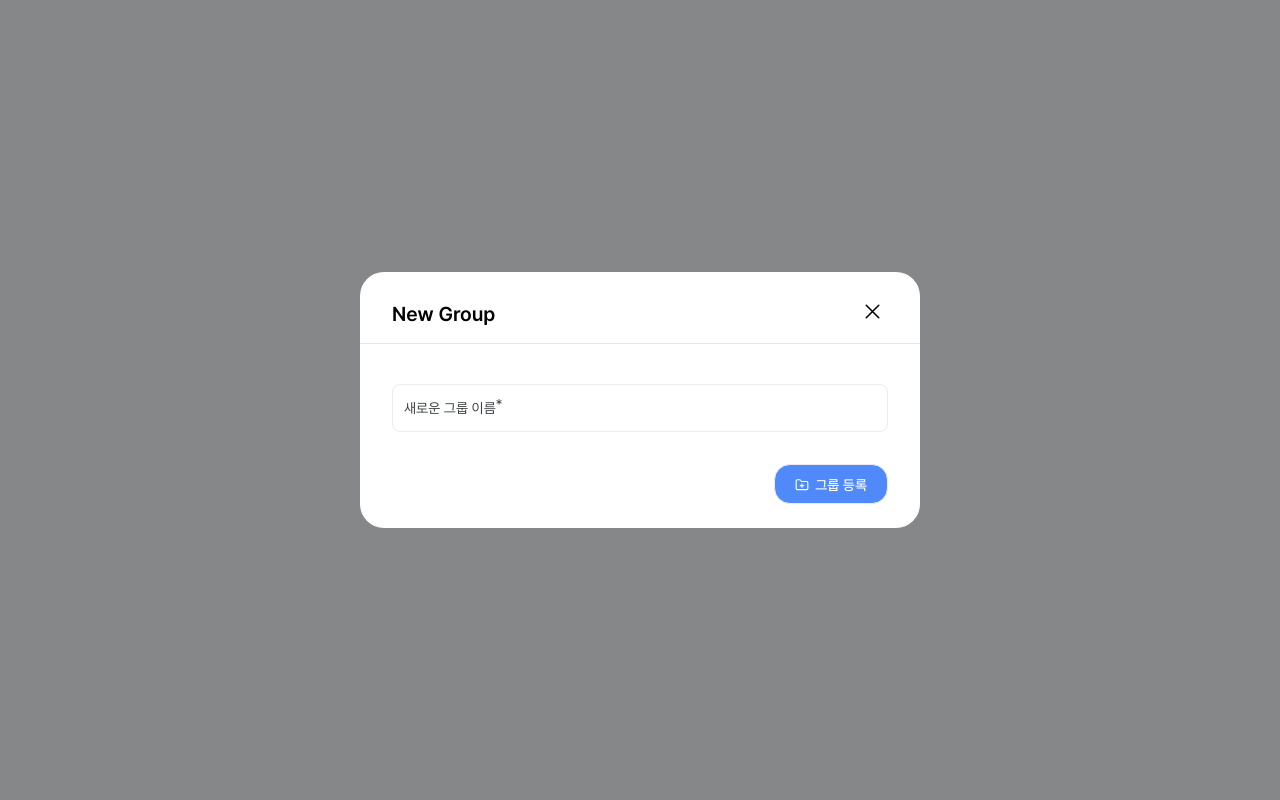
CreateGroup 컴포넌트 단위 테스트 › 유효성 검사를 통과하지 못하면 에러 메시지가 렌더링 된다.
The image size is (1280, 800).
Type "중복된 그룹 이름" into the field labelled "새로운 그룹 이름" at (640, 408), box [392,384,888,432]
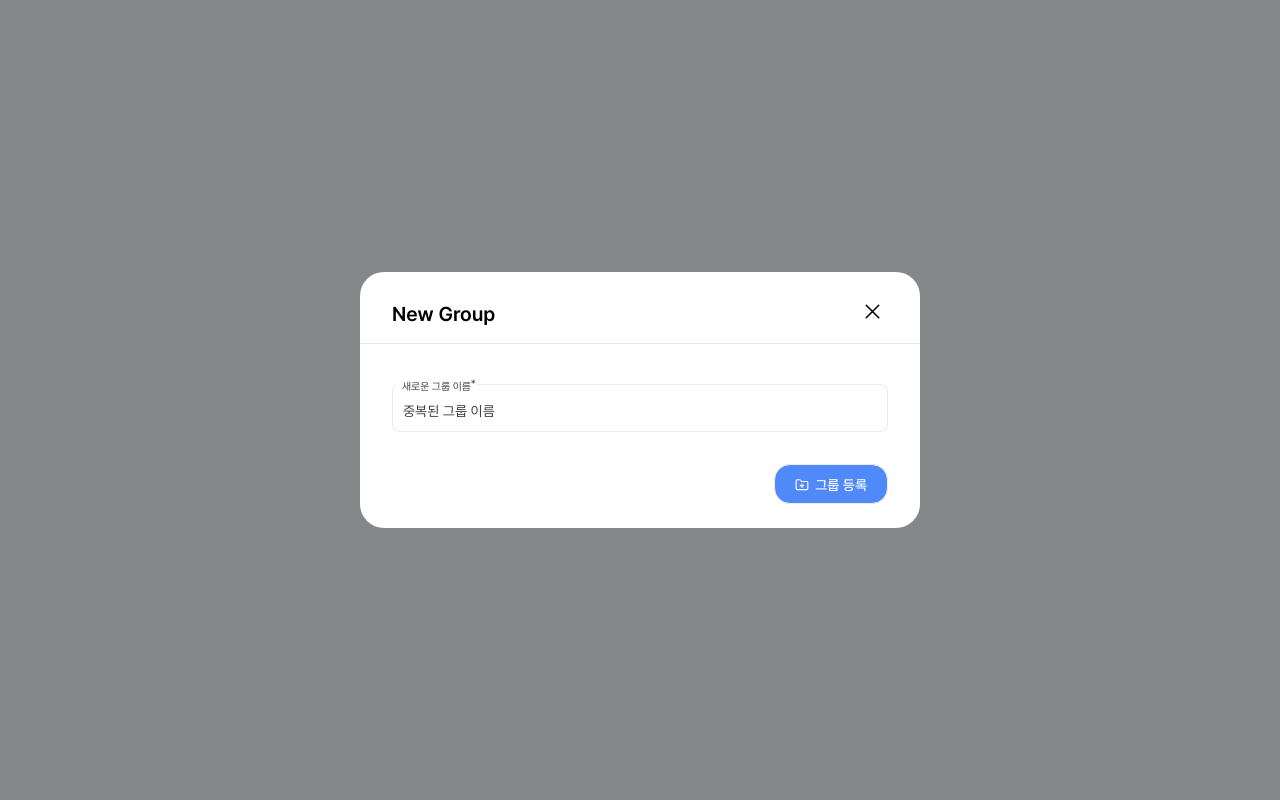
Click the button "그룹 등록" at (831, 484), box [774,464,888,504]
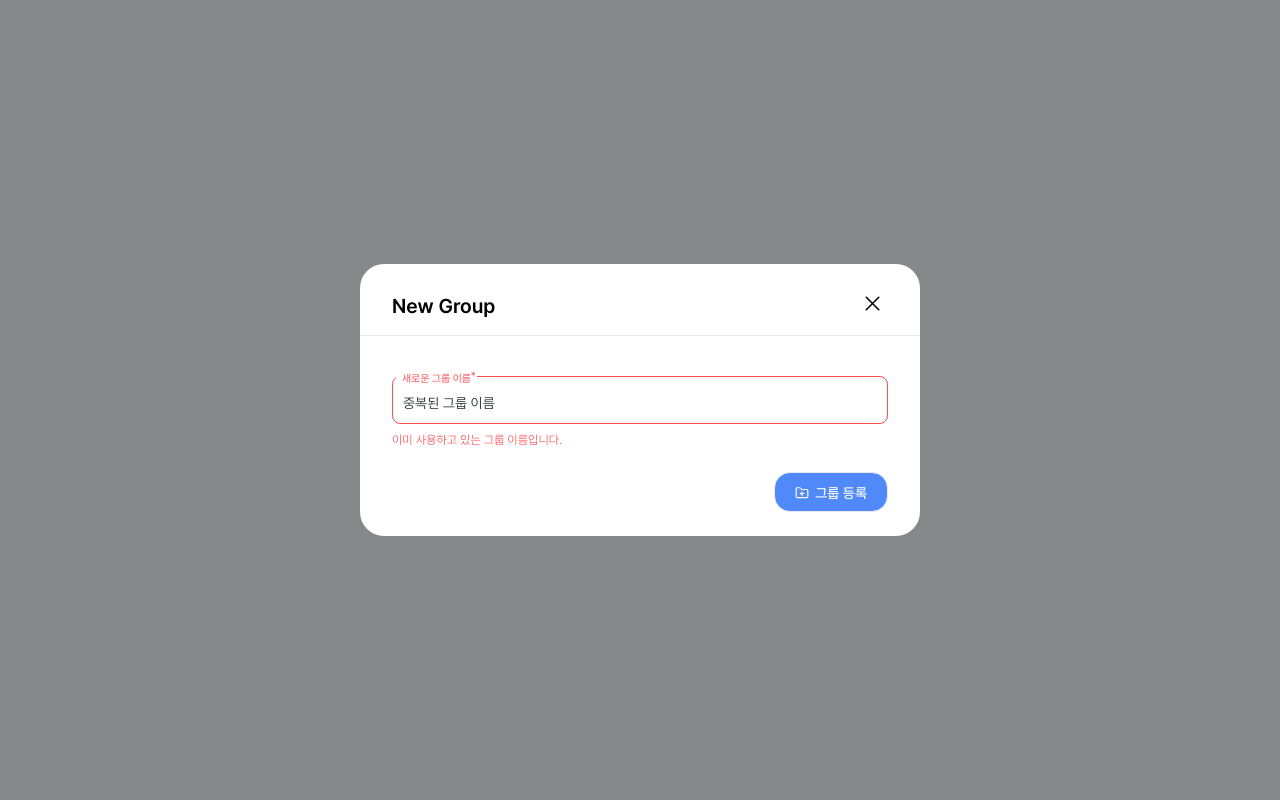
Check: the text "이미 사용하고 있는 그룹 이름입니다." is shown, box [392,433,562,447]
Replace the text in the field labelled "새로운 그룹 이름" with "다른 이름" at (640, 400), box [392,376,888,424]
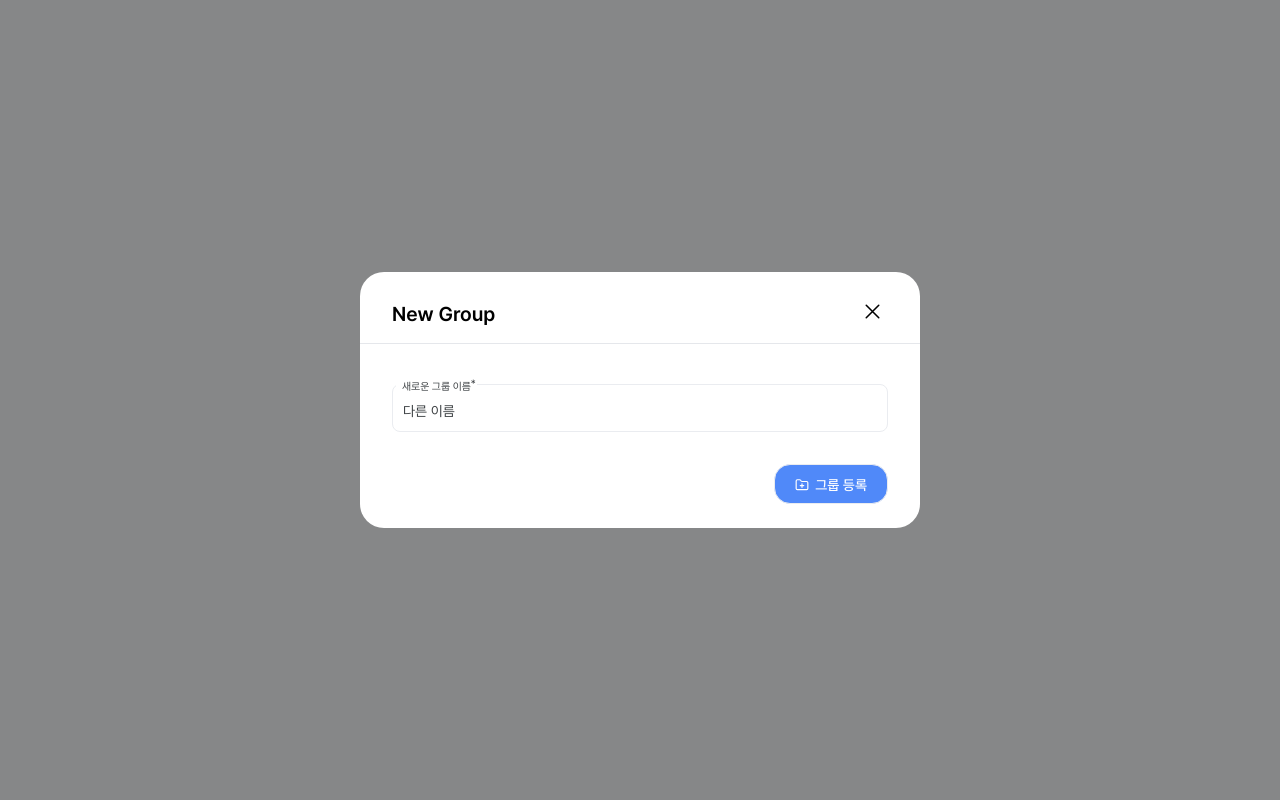
Check: the text "이미 사용하고 있는 그룹 이름입니다." is gone
